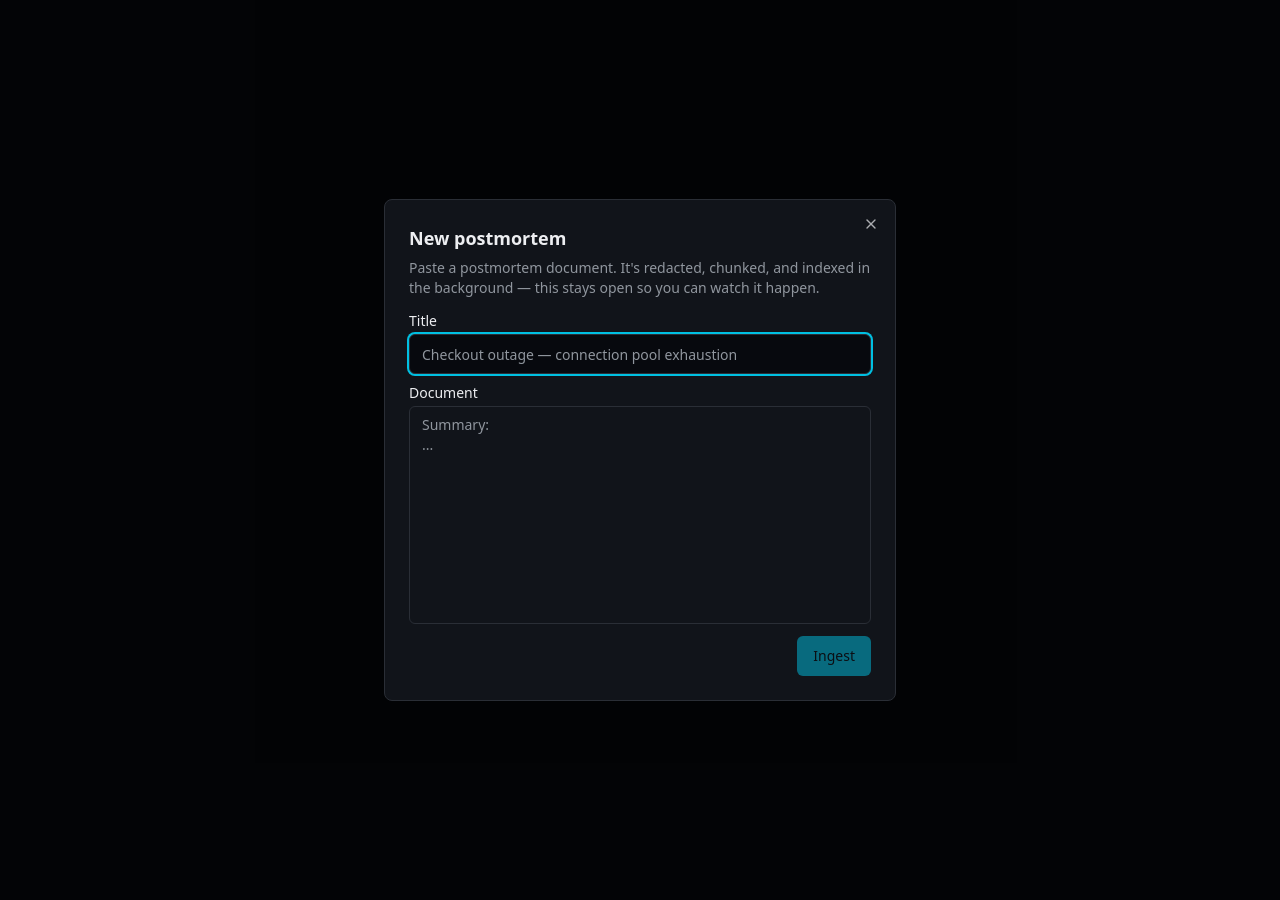
Test case: NewPostmortemModal › shows an error and stays on the form when creation itself fails
Type "t" into the field labelled "Title" at (640, 354), box [409,334,871,374]
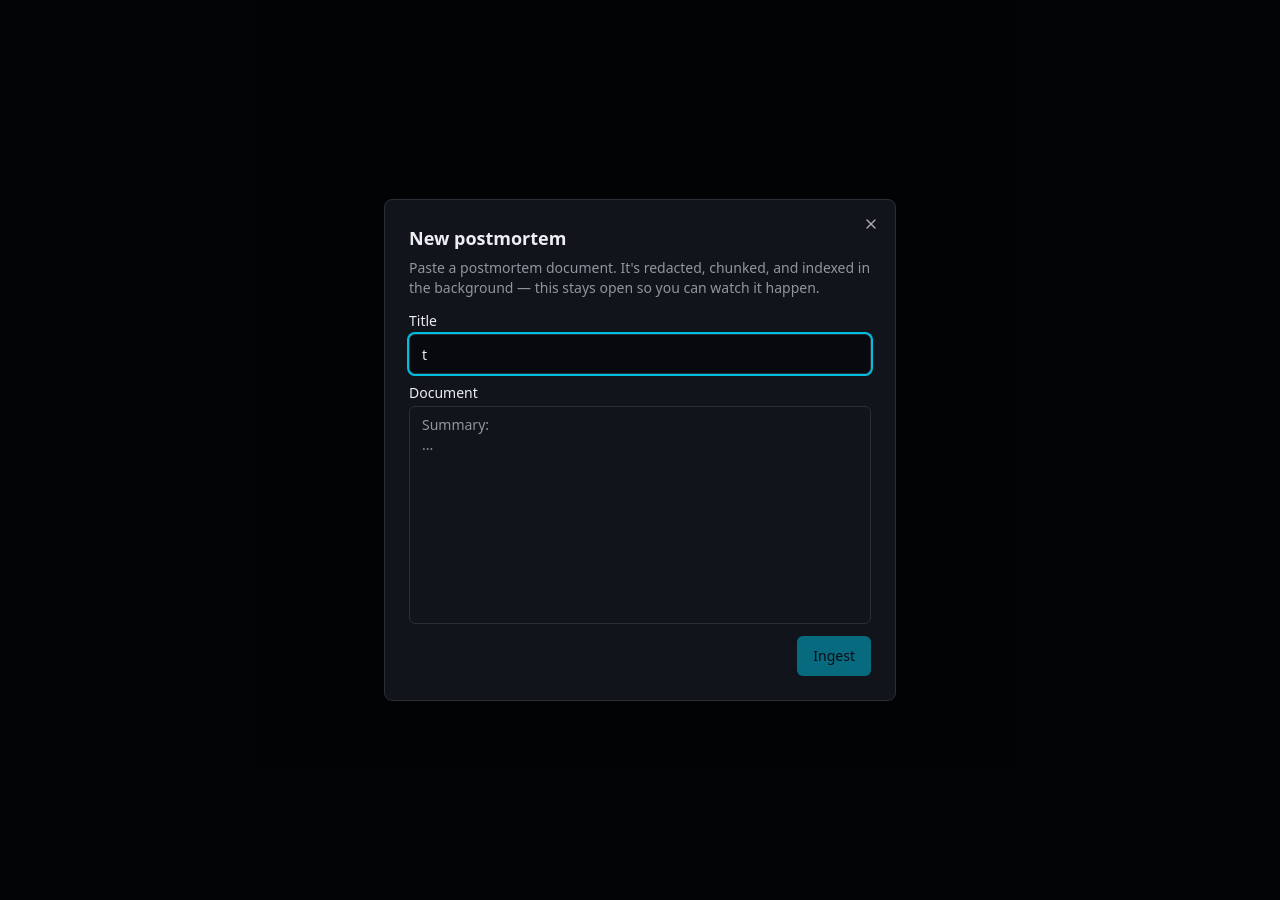
Type "d" into the text box labelled "Document" at (640, 515), box [409,406,871,624]
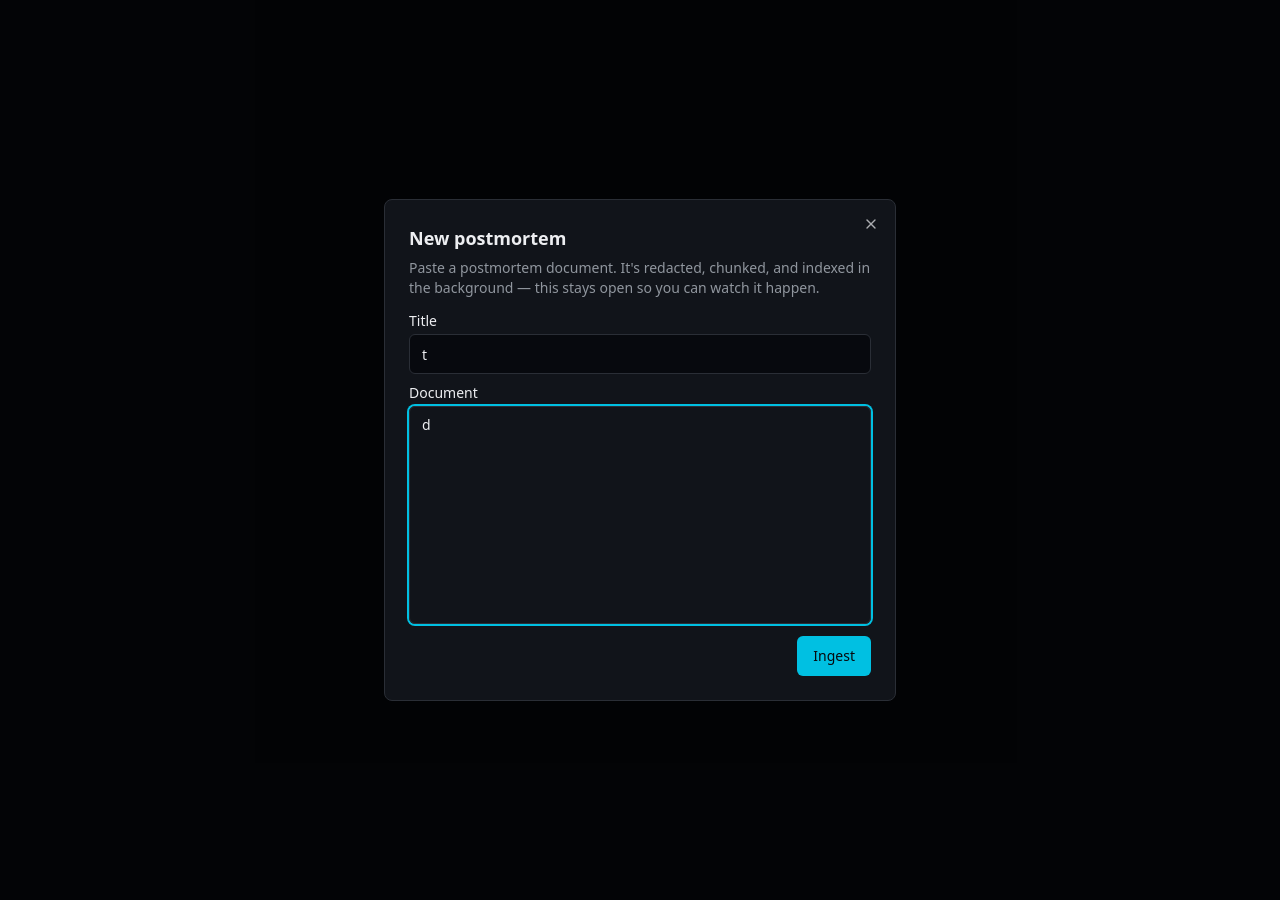
Click the button "Ingest" at (834, 656), box [797,636,871,676]
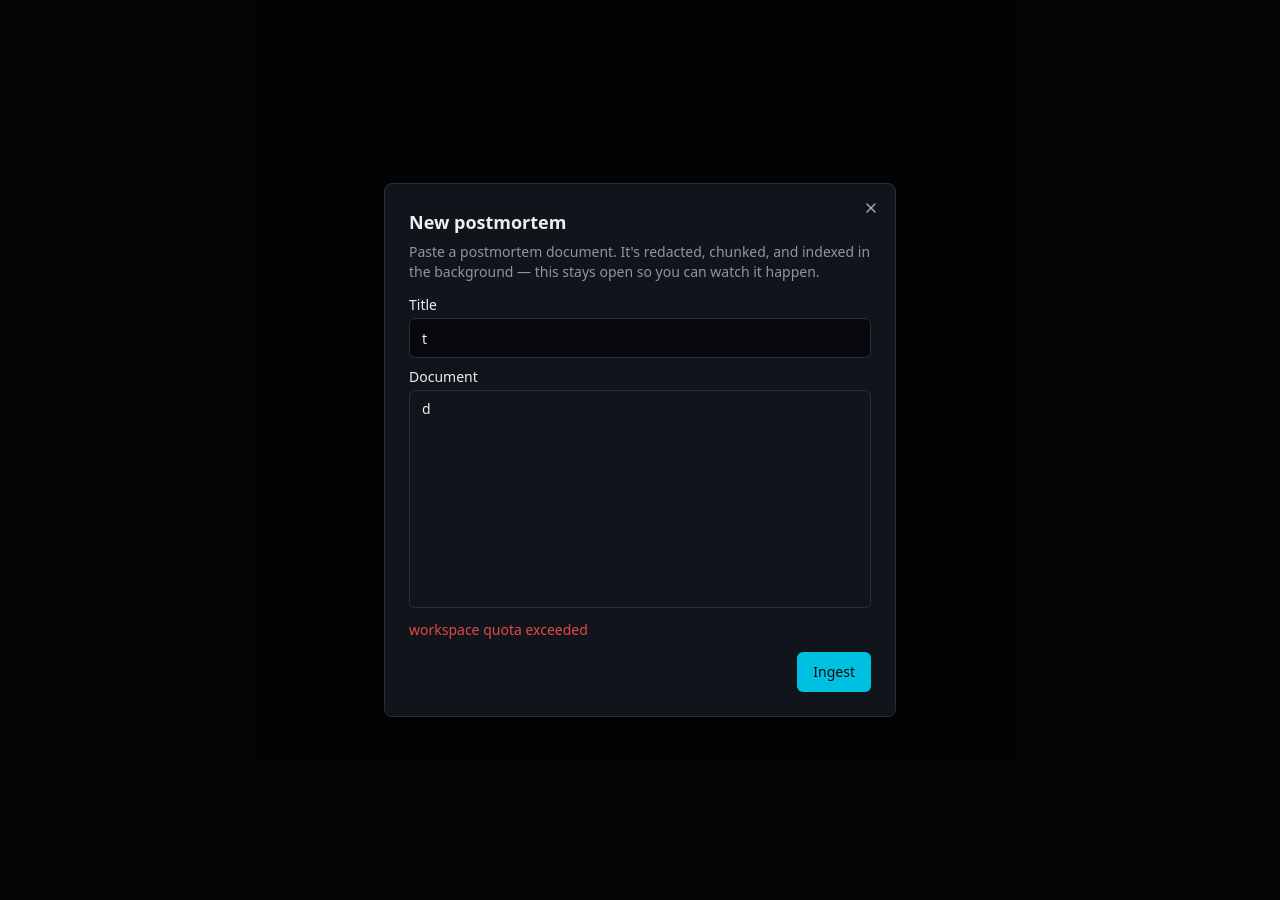
Now the text "workspace quota exceeded" is shown, box [409,620,588,639]
